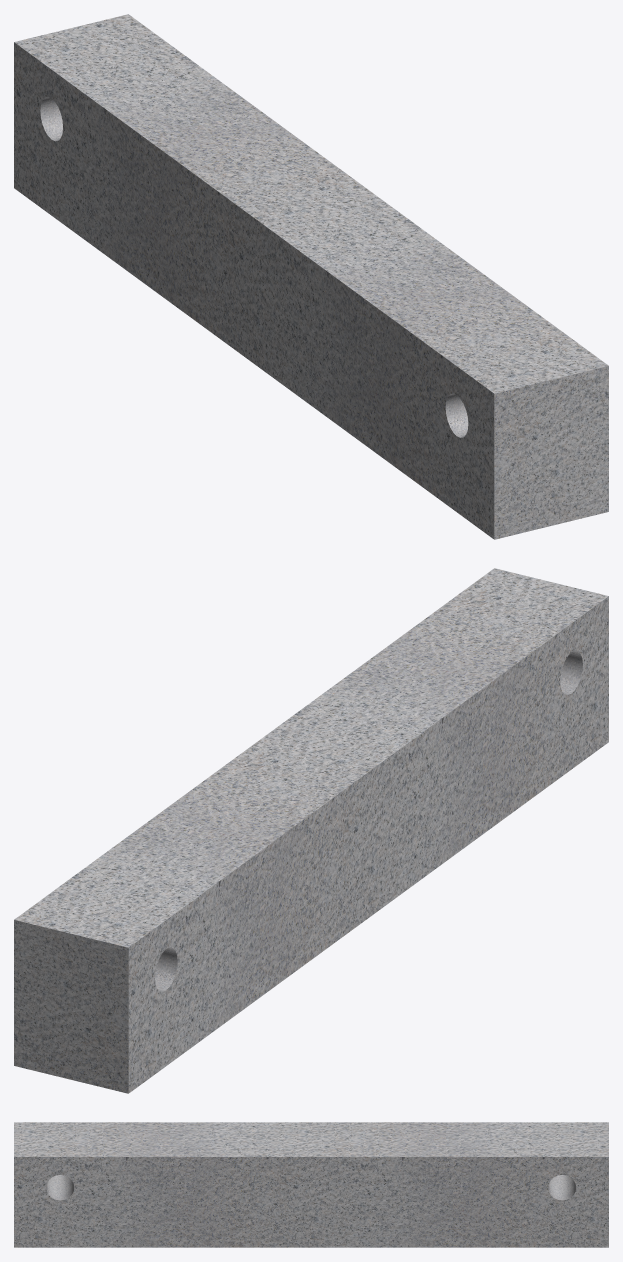
The model's file is SM_W_Stone_5.fbx.
3 views of the same model, one above another, from view 1: azimuth 30°, elevation 25°; view 2: azimuth 150°, elevation 25°; view 3: azimuth 270°, elevation 25° (orthographic). The views are drawn at different scales.
Visible parts, largest first — view 1: SM_W_Stone_5; view 2: SM_W_Stone_5; view 3: SM_W_Stone_5.
Part boxes in pixels (x1,y1,x2,y2): SM_W_Stone_5: (14,14,608,539); SM_W_Stone_5: (14,568,608,1093); SM_W_Stone_5: (14,1122,608,1247).
Size of the model in its own units: 36.96 by 268 by 45.02.
Materials: 1 (1 with a texture image).
